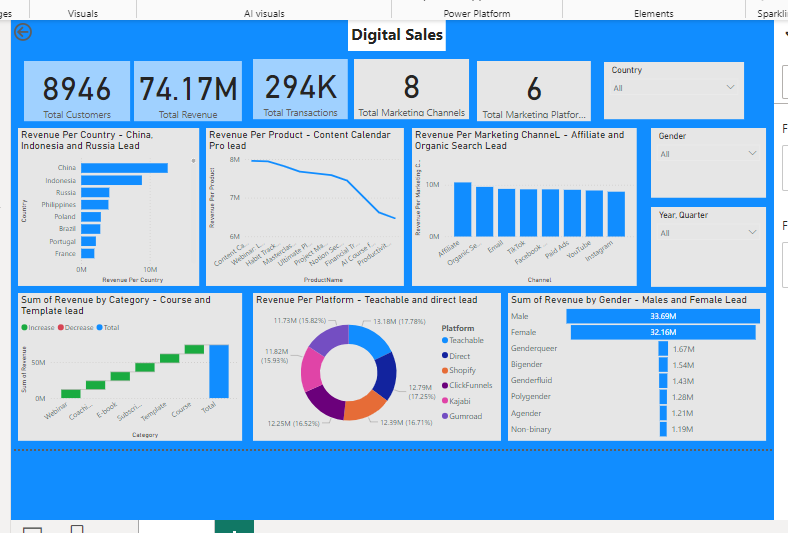

The dashboard page shown, as its layout file describes it:
{"tool":"powerbi","page":{"name":"Page 1","canvas":[1280,720],"ordinal":0},"visuals":[{"type":"card","fields":{"Values":["tbl_SalesTransaction.Total Revenue"]},"box":[206.3,68.8,181.2,100.7],"z":0},{"type":"card","fields":{"Values":["tbl_Customer.Total Customers"]},"box":[21.8,68.8,177.8,100.7],"z":1000},{"type":"clusteredBarChart","title":"Revenue Per Country - China, Indonesia and Russia Lead","fields":{"Category":["tbl_Customer.Country"],"Y":["tbl_Customer.Revenue Per Country","tbl_Customer.Revenue Per Country"]},"box":[11.7,181.2,303.6,265.1],"z":2000},{"type":"actionButton","box":[0,0,100,40],"z":3000},{"type":"lineChart","title":"Revenue Per Product  - Content Calendar Pro lead","fields":{"Category":["tbl_Product.ProductName"],"Y":["tbl_Product.Revenue Per Product"]},"box":[327.1,181.2,332.2,265.1],"z":4000},{"type":"lineStackedColumnComboChart","title":"Revenue Per Marketing ChanneL - Affiliate and Organic Search Lead","fields":{"Category":["tbl_MarketingChannel.Channel"],"Y":["tbl_MarketingChannel.Revenue Per Marketing Channel"]},"box":[672.7,181.2,377.5,265.1],"z":5000},{"type":"donutChart","title":"Revenue Per Platform - Teachable and direct lead","fields":{"Category":["tbl_MarketingChannel.Platform"],"Y":["tbl_SalesTransaction.Revenue Per Platform"]},"box":[406,458,416,248.3],"z":6000},{"type":"card","fields":{"Values":["tbl_SalesTransaction.Total Transactions"]},"box":[406,65.4,159.4,100.7],"z":8001},{"type":"card","fields":{"Values":["tbl_MarketingChannel.Total Marketing Channels"]},"box":[575.4,65.4,192.9,100.7],"z":8002},{"type":"card","fields":{"Values":["tbl_MarketingChannel.Total Marketing Platforms"]},"box":[781.8,68.8,191.2,100.7],"z":8003},{"type":"slicer","fields":{"Values":["tbl_Customer.Country"]},"box":[994.8,70.5,234.9,95.6],"z":8004},{"type":"funnel","title":"Sum of Revenue by Gender - Males and Female Lead","fields":{"Category":["tbl_Customer.Gender"],"Y":["Sum(tbl_SalesTransaction.Revenue)"]},"box":[833.8,458,432.8,248.3],"z":8005},{"type":"waterfallChart","title":"Sum of Revenue by Category - Course and Template lead","fields":{"Category":["tbl_Product.Category"],"Y":["Sum(tbl_SalesTransaction.Revenue)"]},"box":[11.7,458,375.8,248.3],"z":8006},{"type":"slicer","fields":{"Values":["tbl_Customer.Gender"]},"box":[1073.7,181.2,192.9,117.4],"z":8007},{"type":"slicer","fields":{"Values":["tbl_SalesTransaction.TransactionDate.Variation.Date Hierarchy.Year","tbl_SalesTransaction.TransactionDate.Variation.Date Hierarchy.Quarter"]},"box":[1073.7,313.7,192.9,134.2],"z":8008},{"type":"textbox","box":[565.3,0,164.4,52],"z":8009}]}

Visuals, with their boxes in screenshot pixels (x1, y1, x2, y2):
card - tbl_SalesTransaction.Total Revenue: 127/56/237/117
card - tbl_Customer.Total Customers: 15/56/123/117
"Revenue Per Country - China, Indonesia and Russia Lead" clusteredBarChart: 9/124/193/285
actionButton: 2/14/63/39
"Revenue Per Product  - Content Calendar Pro lead" lineChart: 201/124/402/285
"Revenue Per Marketing ChanneL - Affiliate and Organic Search Lead" lineStackedColumnComboChart: 410/124/640/285
"Revenue Per Platform - Teachable and direct lead" donutChart: 249/292/501/443
card - tbl_SalesTransaction.Total Transactions: 249/54/345/115
card - tbl_MarketingChannel.Total Marketing Channels: 351/54/468/115
card - tbl_MarketingChannel.Total Marketing Platforms: 477/56/593/117
slicer - tbl_Customer.Country: 606/57/749/115
"Sum of Revenue by Gender - Males and Female Lead" funnel: 508/292/771/443
"Sum of Revenue by Category - Course and Template lead" waterfallChart: 9/292/237/443
slicer - tbl_Customer.Gender: 654/124/771/196
slicer - tbl_SalesTransaction.TransactionDate.Variation.Date Hierarchy.Year x tbl_SalesTransaction.TransactionDate.Variation.Date Hierarchy.Quarter: 654/205/771/286
textbox: 345/14/445/46
